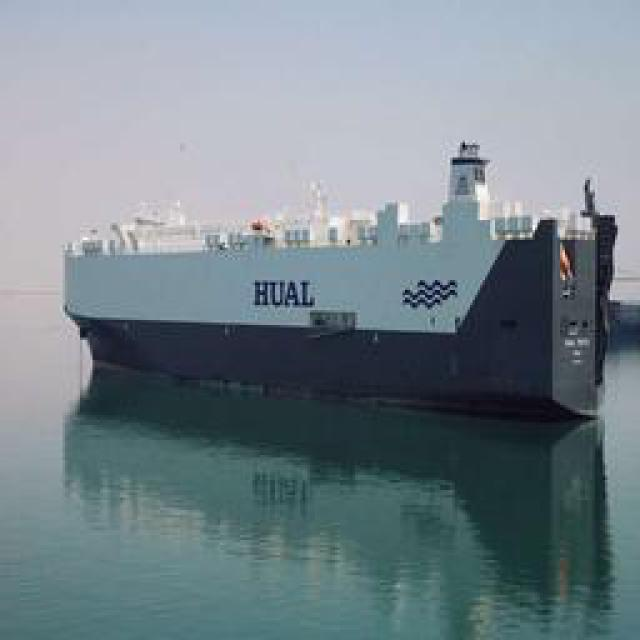Ship: (58, 136, 640, 387)
